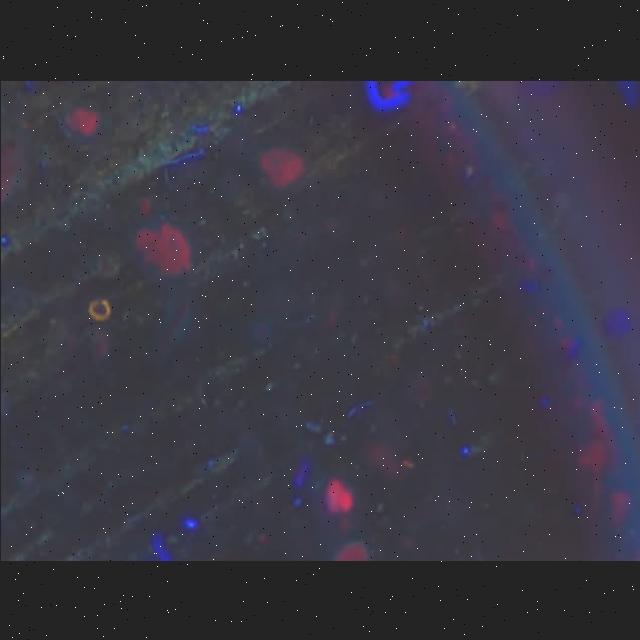Fragment: (135, 222, 189, 272)
